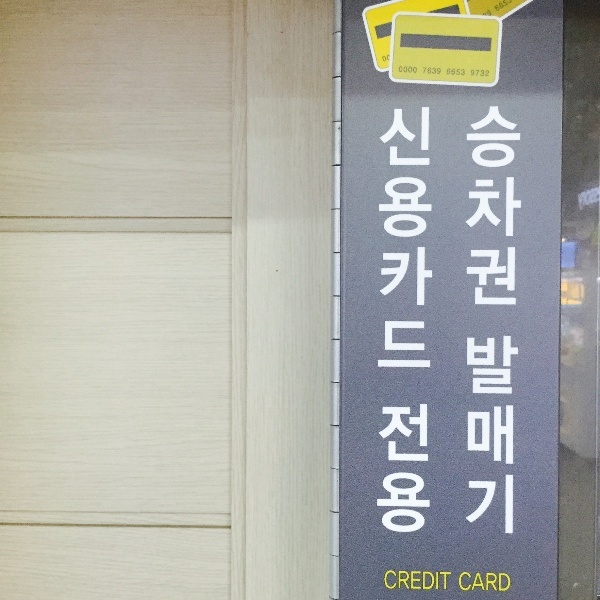text: (385, 105, 400, 372), (401, 105, 416, 372), (417, 105, 432, 372), (465, 103, 480, 309), (481, 103, 496, 309), (497, 103, 512, 309), (481, 334, 496, 538), (497, 334, 512, 538), (466, 334, 480, 538), (513, 103, 523, 309), (385, 402, 400, 536), (401, 402, 416, 536), (417, 402, 431, 536), (378, 105, 384, 372), (513, 334, 519, 538), (380, 402, 384, 536), (465, 571, 480, 594), (481, 571, 496, 594), (385, 570, 400, 592), (401, 570, 416, 592), (417, 570, 432, 592), (433, 570, 448, 592), (497, 571, 511, 594), (433, 105, 434, 372), (401, 65, 416, 78), (417, 65, 432, 78), (433, 65, 448, 78), (449, 65, 464, 78), (465, 65, 480, 78), (497, 1, 508, 14), (458, 571, 464, 594), (481, 65, 490, 78), (449, 570, 452, 592), (385, 54, 390, 64), (398, 65, 400, 78), (382, 54, 384, 64), (495, 1, 496, 14)
